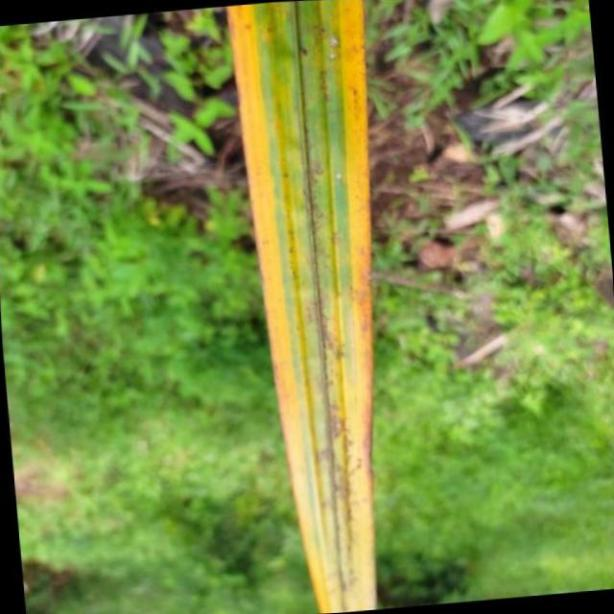Megnesium: (225, 5, 379, 614)
